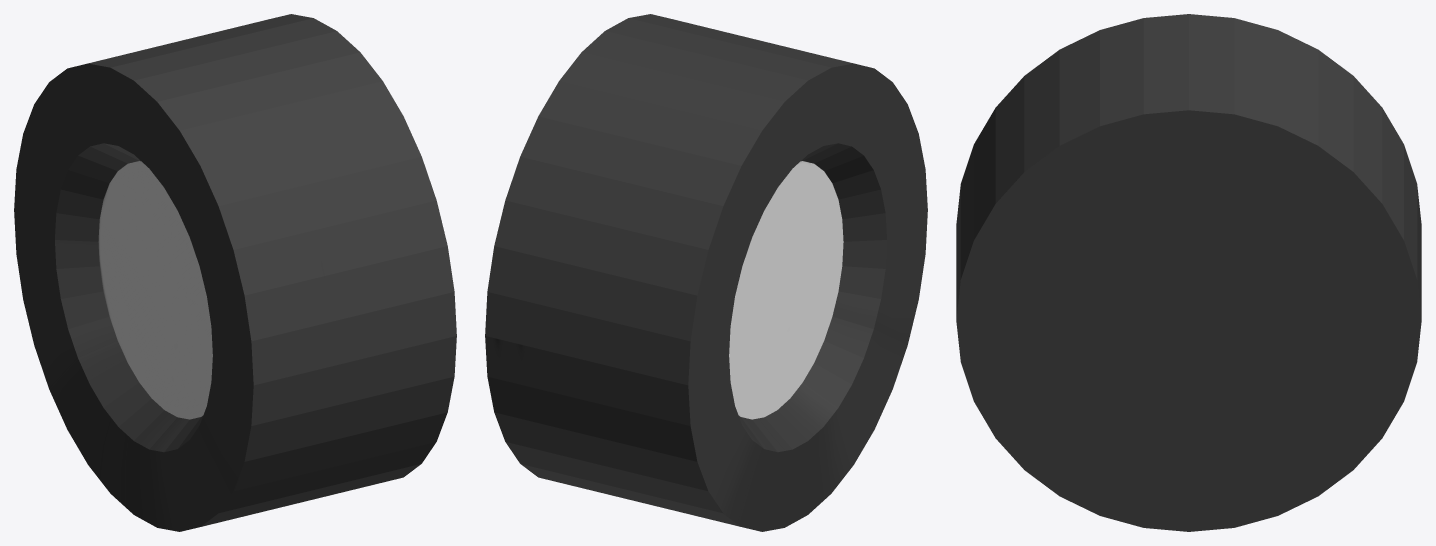
Rendered from roue.gltf.
The picture shows the model from 3 angles, left to right: view 1: azimuth 30°, elevation 25°; view 2: azimuth 150°, elevation 25°; view 3: azimuth 270°, elevation 25°; orthographic projection. The views are drawn at different scales.
Visible parts, largest first — view 1: Cylinder; view 2: Cylinder; view 3: Cylinder.
Part boxes in pixels (bbox=[...]): Cylinder: bbox=[14, 14, 456, 531]; Cylinder: bbox=[485, 14, 927, 531]; Cylinder: bbox=[956, 14, 1421, 531].
Bounding box in the file's own units: 0.9793 × 2 × 2.
Materials: 1 (1 with a texture image).
